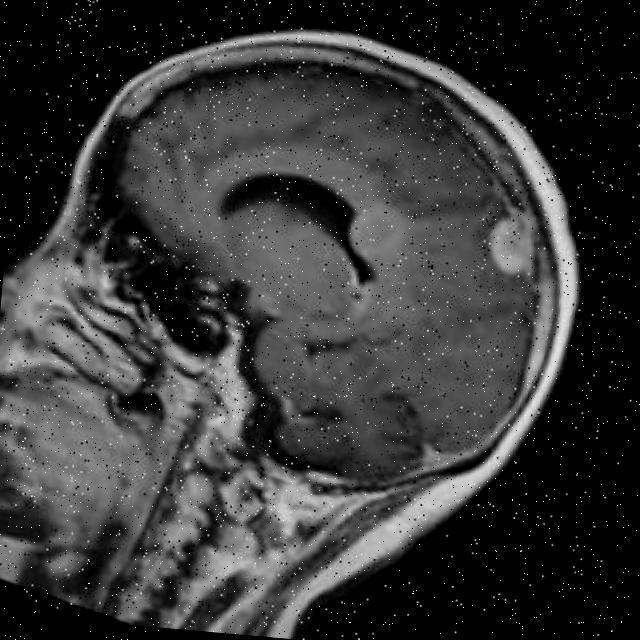MCI: (436, 159, 627, 378)
